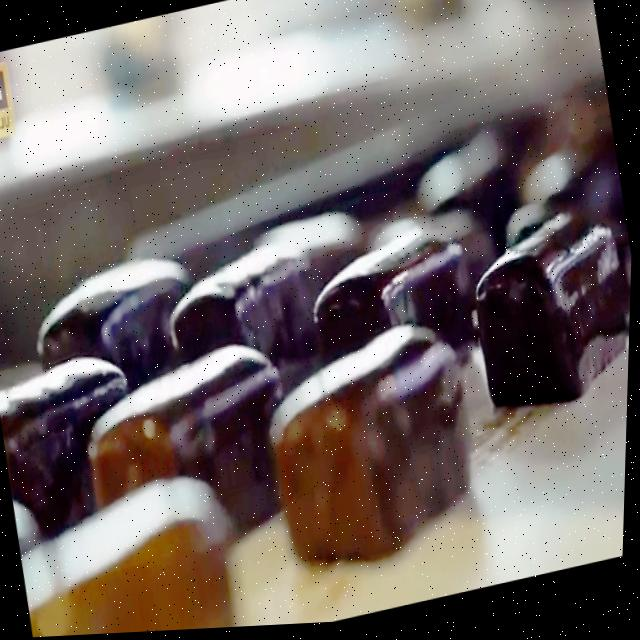Choco: (253, 310, 497, 584), (73, 330, 311, 572), (15, 462, 257, 639), (459, 200, 635, 426), (297, 217, 485, 400), (30, 239, 206, 425), (0, 341, 156, 545), (163, 235, 335, 407)
